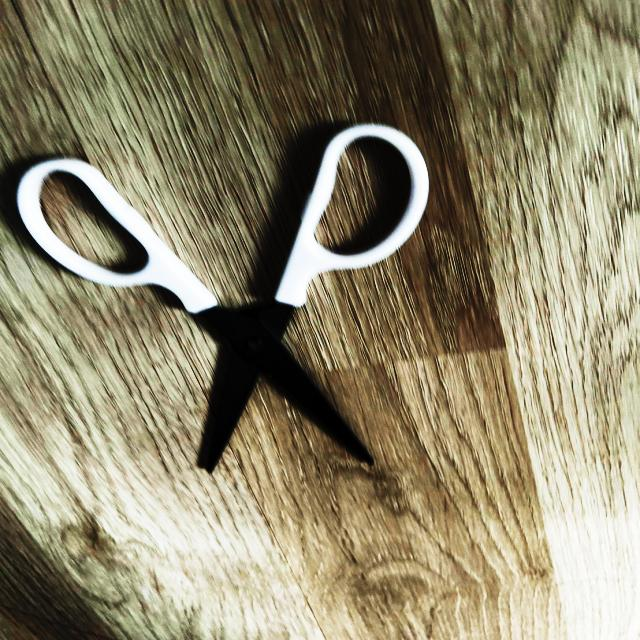Scissors: (16, 124, 429, 471)
